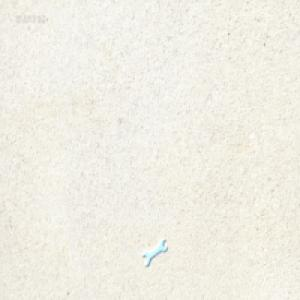Wrench: (142, 238, 167, 267)
